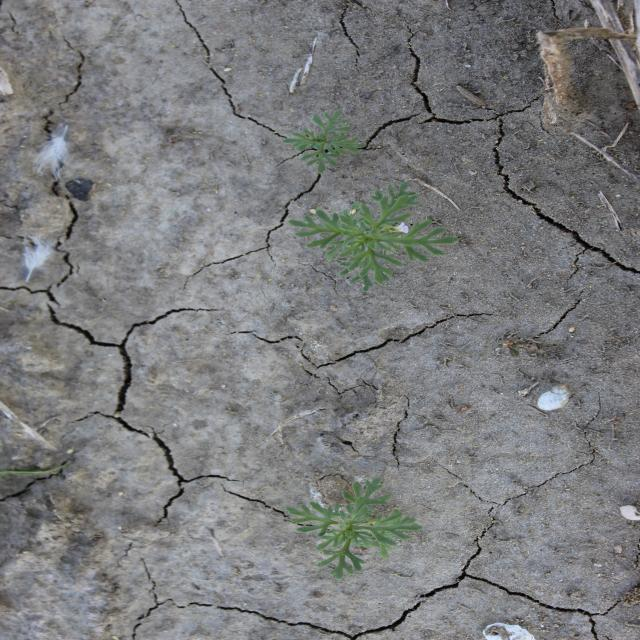Ragweed: (287, 180, 462, 292), (284, 476, 425, 582), (279, 107, 369, 176)
